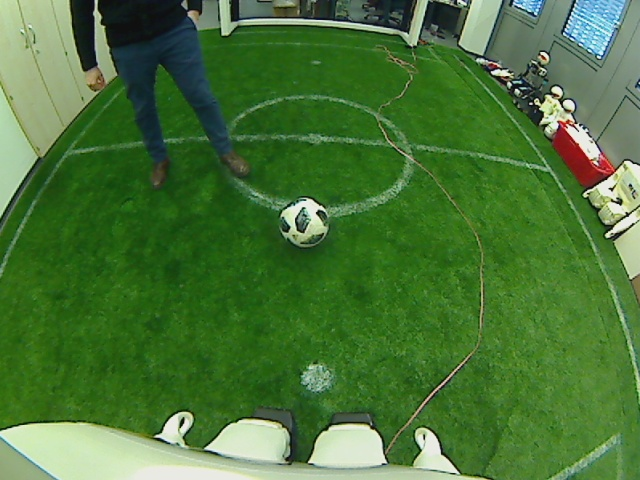ball: (279, 196, 329, 247)
